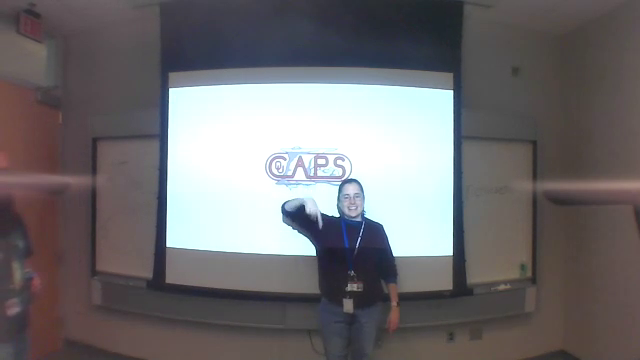down: (299, 190, 324, 234)
